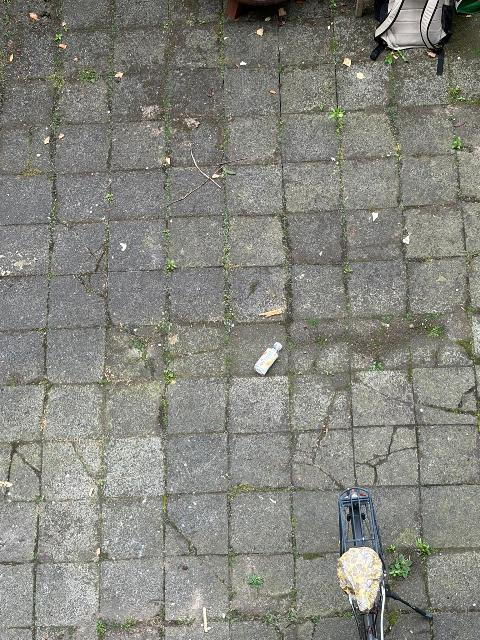plastic_bottle: (254, 344, 282, 377)
